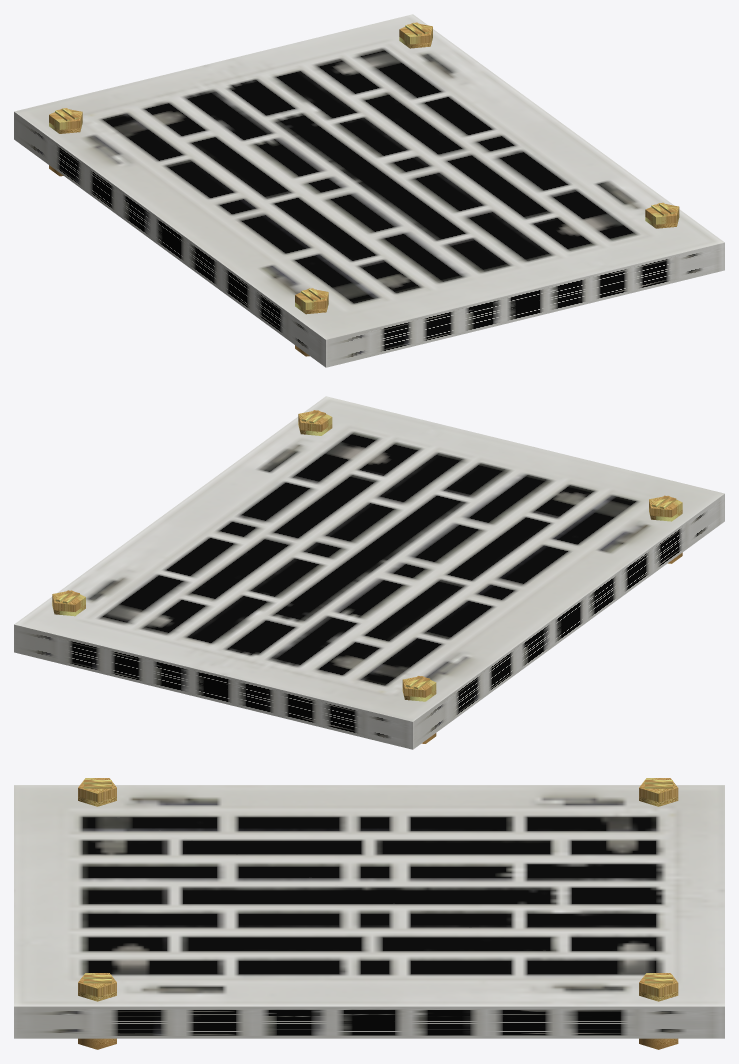
Rendered from air_grill.FBX.
3 renders of one model, top to bottom at view 1: azimuth 30°, elevation 25°; view 2: azimuth 150°, elevation 25°; view 3: azimuth 270°, elevation 25°, orthographic. The views are drawn at different scales.
Parts seen in each view (by area): view 1: Box001, Box005, Box006, Box003, Box004; view 2: Box001, Box006, Box005, Box003, Box004; view 3: Box001, Box004, Box003, Box006, Box005.
Part boxes in pixels (x1,y1,x2,y2): Box001: (14, 14, 724, 367); Box005: (295, 288, 328, 356); Box006: (49, 108, 82, 176); Box003: (645, 202, 679, 228); Box004: (399, 22, 432, 48); Box001: (14, 396, 724, 749); Box006: (402, 676, 436, 743); Box005: (649, 495, 682, 563); Box003: (298, 410, 332, 435); Box004: (52, 590, 85, 616); Box001: (14, 785, 724, 1038); Box004: (639, 973, 678, 1049); Box003: (78, 973, 116, 1049); Box006: (639, 778, 678, 806); Box005: (78, 778, 116, 806).
Size of the model in its own units: 81.2 by 10.77 by 110.
2 materials, 2 textured.
